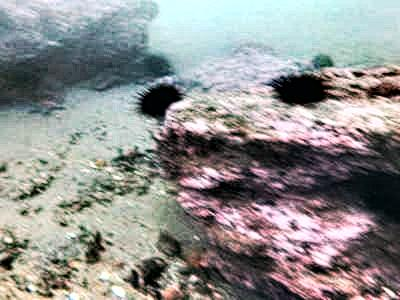urchin: (271, 73, 324, 101), (137, 82, 179, 116)
